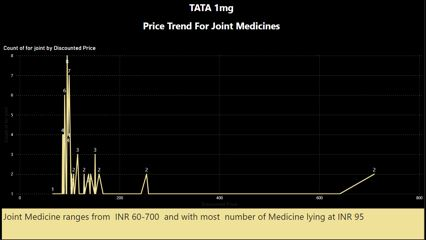

This screenshot's page, from the dashboard's own definition file:
{"tool":"powerbi","page":{"name":"PriceRange  vs KB","canvas":[1280,720],"ordinal":3},"visuals":[{"type":"lineChart","fields":{"Category":["1Mg_homeopathic.Discounted Price"],"Y":["CountNonNull(1Mg_homeopathic.for joint)"]},"box":[9.4,136.1,1269.9,491.3],"z":0},{"type":"textbox","box":[9.4,627.4,1269.9,92.6],"z":1000},{"type":"textbox","box":[0,0,1279.4,136.1],"z":2000}]}

Visuals, with their boxes in screenshot pixels (x1, y1, x2, y2), scaled from the page's 1280x720 canvas onto the 426x240 screenshot:
lineChart - 1Mg_homeopathic.Discounted Price x CountNonNull(1Mg_homeopathic.for joint): bbox(3, 45, 425, 209)
textbox: bbox(3, 209, 425, 239)
textbox: bbox(0, 0, 425, 45)
